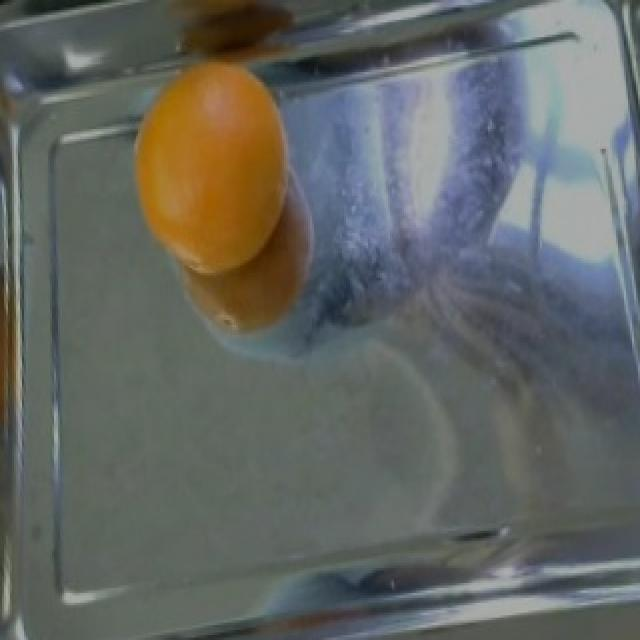Fruit: (124, 50, 302, 342)
